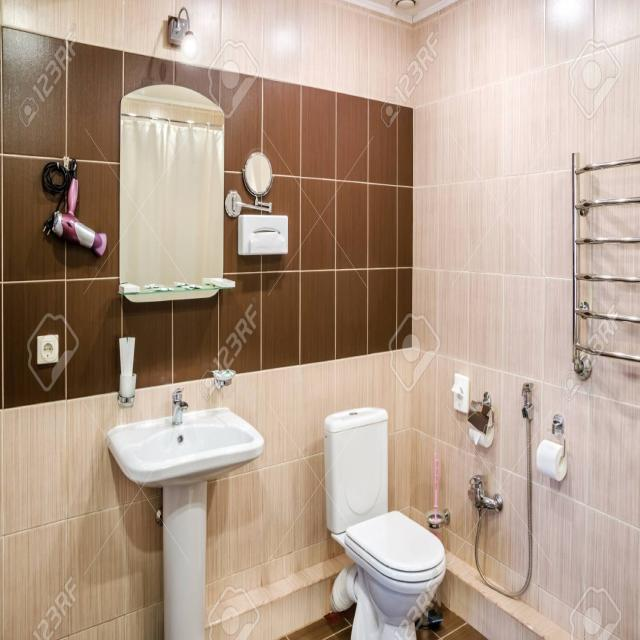dryer: (39, 157, 111, 269)
